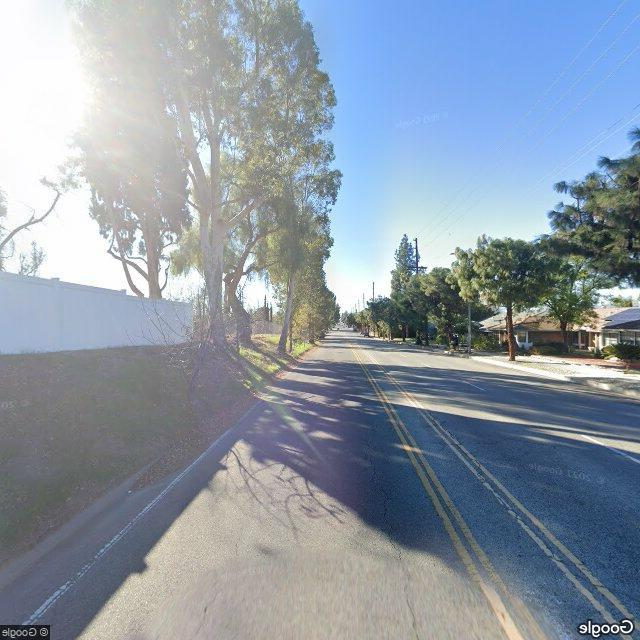pothole: (367, 425, 426, 639)
